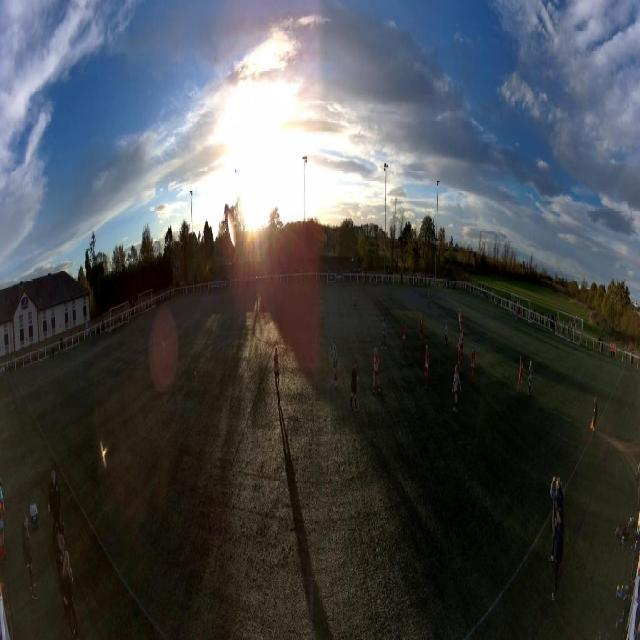player: (451, 364, 462, 416), (350, 358, 359, 414), (372, 347, 381, 395), (273, 346, 281, 393), (332, 335, 338, 386), (424, 345, 429, 392), (381, 318, 387, 349), (518, 357, 523, 392), (528, 362, 533, 396), (402, 323, 407, 354), (471, 346, 475, 383), (458, 337, 462, 374), (161, 337, 166, 366), (419, 314, 423, 346), (444, 320, 448, 352), (321, 301, 325, 331), (458, 309, 462, 333), (353, 290, 357, 309), (457, 307, 460, 329), (378, 290, 381, 310), (427, 290, 430, 307), (515, 308, 518, 323)
